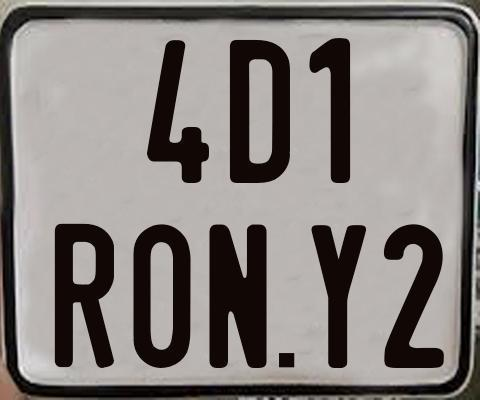0: (132, 223, 192, 367)
1: (308, 36, 353, 187)
2: (383, 222, 445, 366)
4: (146, 38, 210, 183)
D: (230, 38, 290, 181)
N: (208, 224, 267, 369)
R: (54, 224, 113, 373)
Y: (310, 225, 365, 373)
